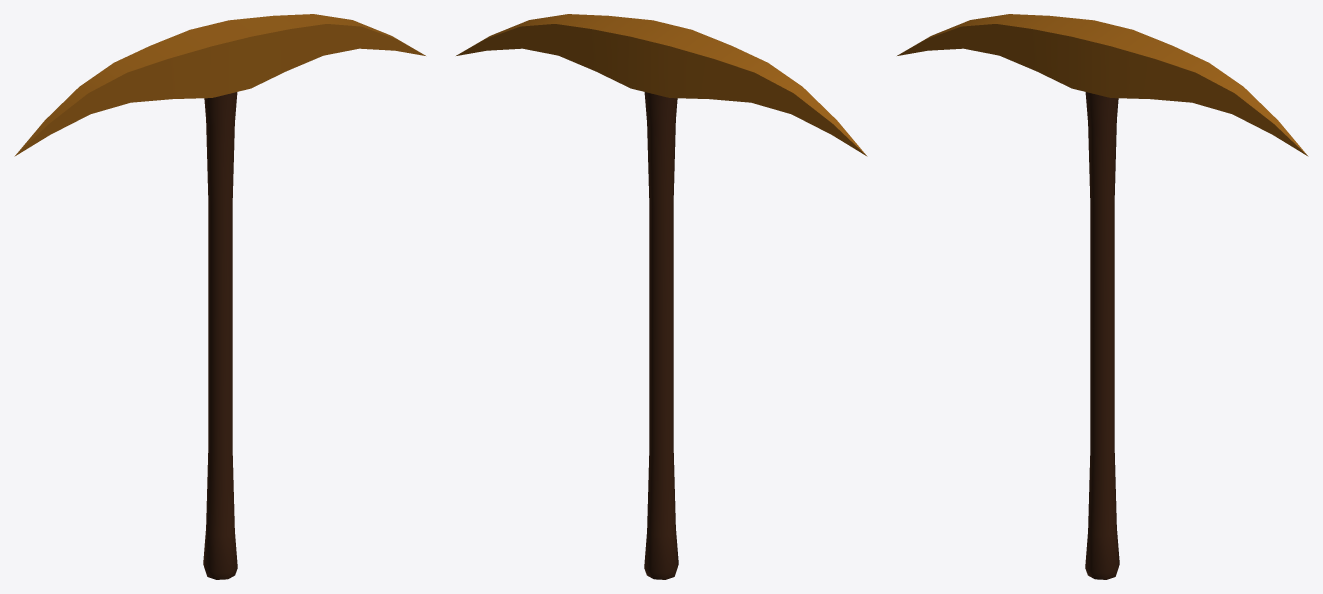
Rendered from PickAxe.fbx.
The picture shows the model from 3 angles, left to right: view 1: azimuth 30°, elevation 25°; view 2: azimuth 150°, elevation 25°; view 3: azimuth 330°, elevation 25°; orthographic projection.
Parts seen in each view (by area): view 1: VillagerPickaxe; view 2: VillagerPickaxe; view 3: VillagerPickaxe.
Part boxes in pixels (<box>): VillagerPickaxe: <box>14,14,425,579</box>; VillagerPickaxe: <box>456,14,867,579</box>; VillagerPickaxe: <box>897,14,1308,579</box>.
Size of the model in its own units: 81.87 by 102 by 7.7.
